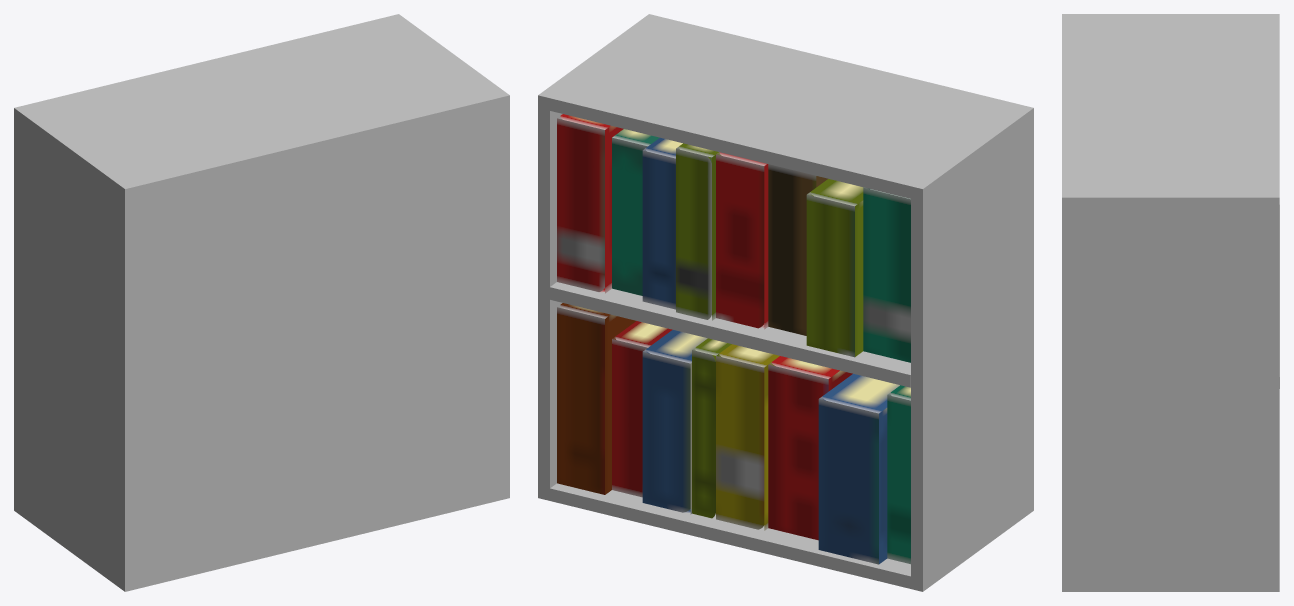
Rendered from bookcase.obj.
3 renders of one model, left to right at view 1: azimuth 30°, elevation 25°; view 2: azimuth 150°, elevation 25°; view 3: azimuth 270°, elevation 25°, orthographic. The views are drawn at different scales.
Visible parts, largest first — view 1: bookcase; view 2: bookcase, book15, book9, book7, book14, book13, book1, book5, book11, book8, book4, book6 (+5 smaller); view 3: bookcase.
Part boxes in pixels (<box>): bookcase: <box>14,14,509,591</box>; bookcase: <box>538,14,1033,591</box>; book15: <box>818,373,899,564</box>; book9: <box>557,303,635,494</box>; book7: <box>806,179,863,357</box>; book14: <box>768,356,852,540</box>; book13: <box>716,344,779,530</box>; book1: <box>557,114,623,293</box>; book5: <box>716,152,768,329</box>; book11: <box>642,330,707,514</box>; book8: <box>863,187,910,362</box>; book4: <box>676,143,721,320</box>; book6: <box>768,164,827,335</box>; bookcase: <box>1062,14,1279,591</box>.
Bounding box in the file's own units: 1 × 1 × 0.5006.
